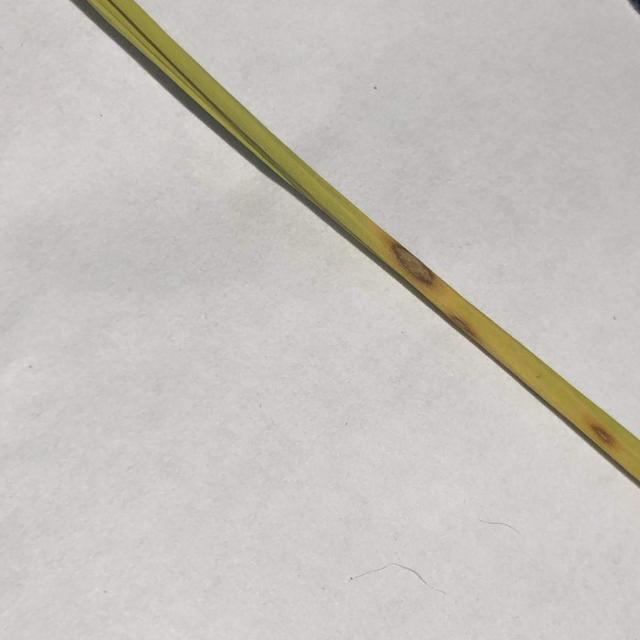Leaf blast: (75, 1, 640, 491)
